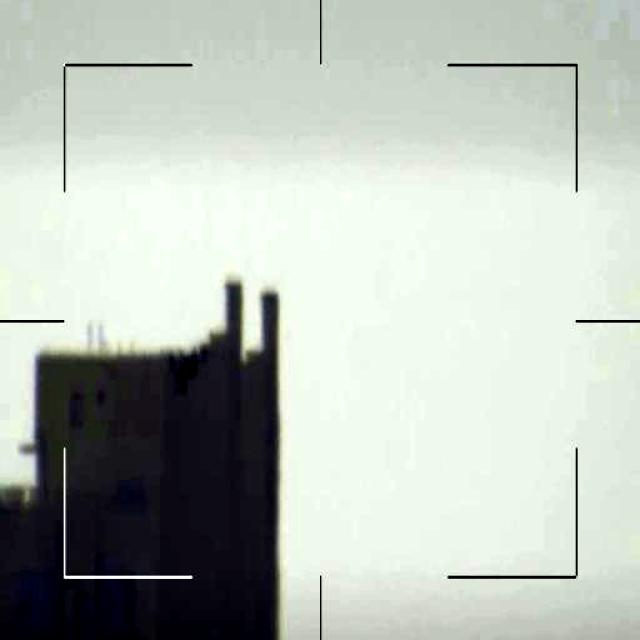bird: (160, 332, 211, 406)
